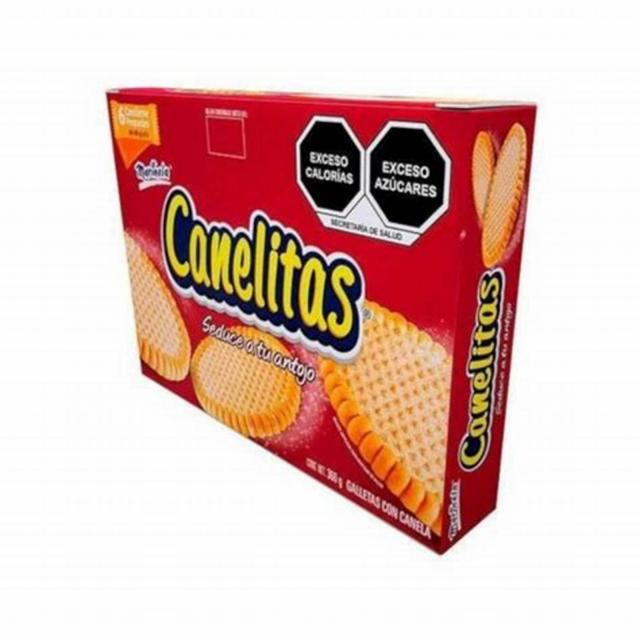Caja: (87, 56, 549, 539)
